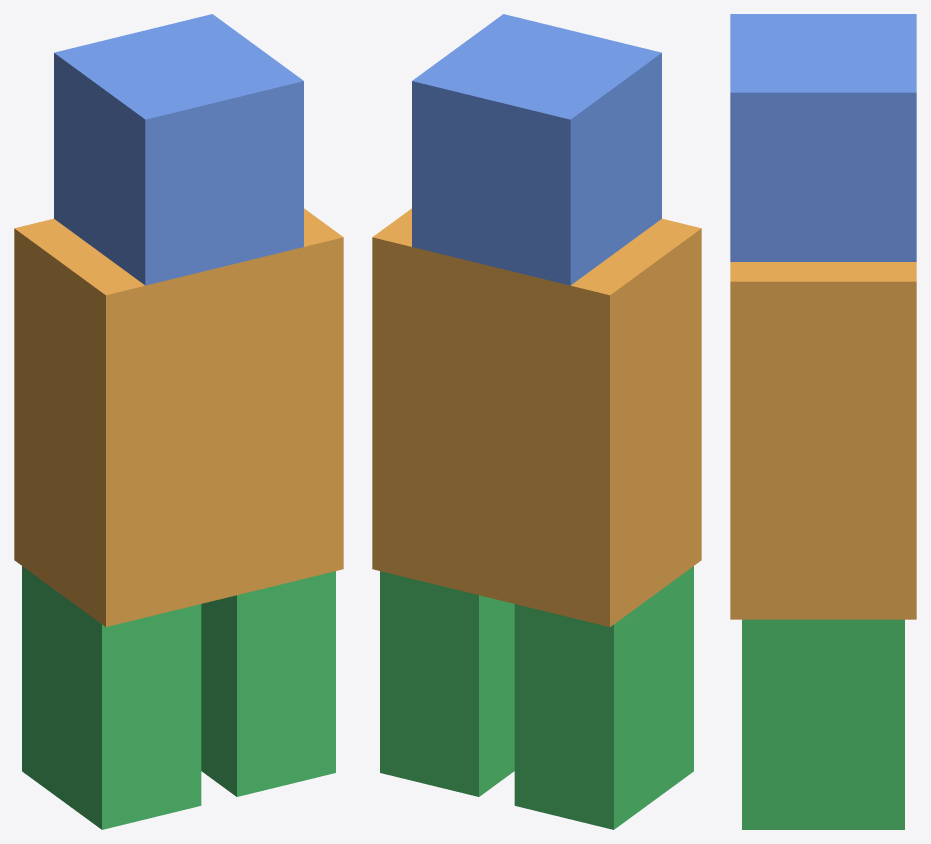
The model's file is character.glb.
The picture shows the model from 3 angles, left to right: view 1: azimuth 30°, elevation 25°; view 2: azimuth 150°, elevation 25°; view 3: azimuth 270°, elevation 25°; orthographic projection.
Visible parts, largest first — view 1: Body, Head, LeftLeg, RightLeg; view 2: Body, Head, LeftLeg, RightLeg; view 3: Body, Head, RightLeg.
Part boxes in pixels (x1,y1,x2,y2): Body: [14, 208, 343, 626]; Head: [54, 14, 303, 285]; LeftLeg: [22, 566, 201, 829]; RightLeg: [201, 571, 335, 796]; Body: [372, 208, 701, 626]; Head: [412, 14, 661, 285]; LeftLeg: [514, 566, 693, 829]; RightLeg: [380, 571, 514, 796]; Body: [730, 262, 916, 619]; Head: [730, 14, 916, 261]; RightLeg: [742, 619, 904, 829].
Bounding box in the file's own units: 0.6 × 1.7 × 0.4.
